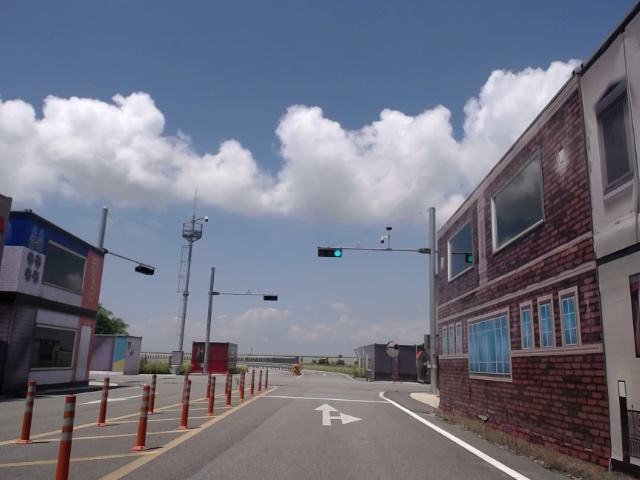green_3: (319, 248, 341, 256)
